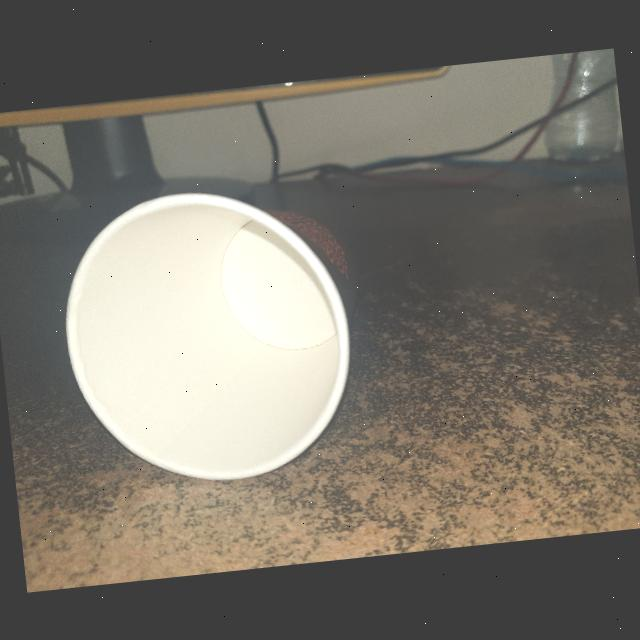trash: (43, 170, 380, 500)
